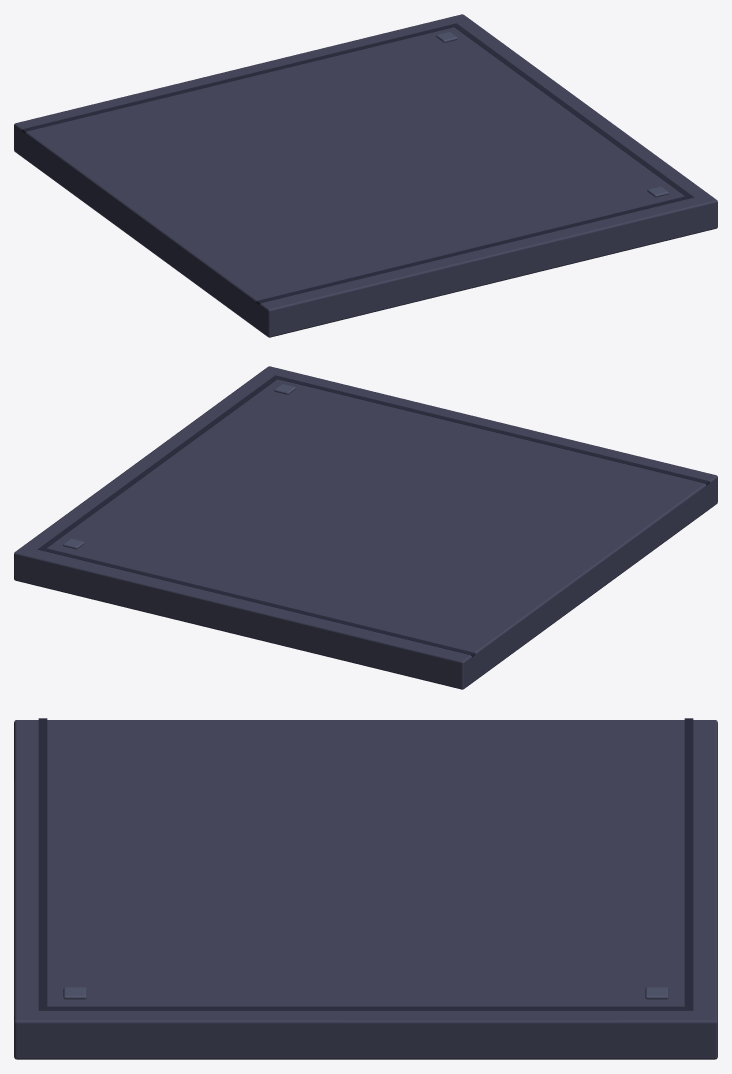
The model's file is floor.plate.ESN.glb.
The picture shows the model from 3 angles, top to bottom: view 1: azimuth 30°, elevation 25°; view 2: azimuth 150°, elevation 25°; view 3: azimuth 270°, elevation 25°; orthographic projection. The views are drawn at different scales.
Visible parts, largest first — view 1: floor.plate.ESN; view 2: floor.plate.ESN; view 3: floor.plate.ESN.
Boxes of the visible parts, bbox=[...] form: floor.plate.ESN: bbox=[14, 14, 717, 337]; floor.plate.ESN: bbox=[14, 366, 717, 689]; floor.plate.ESN: bbox=[14, 718, 717, 1059].
Bounding box in the file's own units: 0.984 × 0.066 × 0.968.
